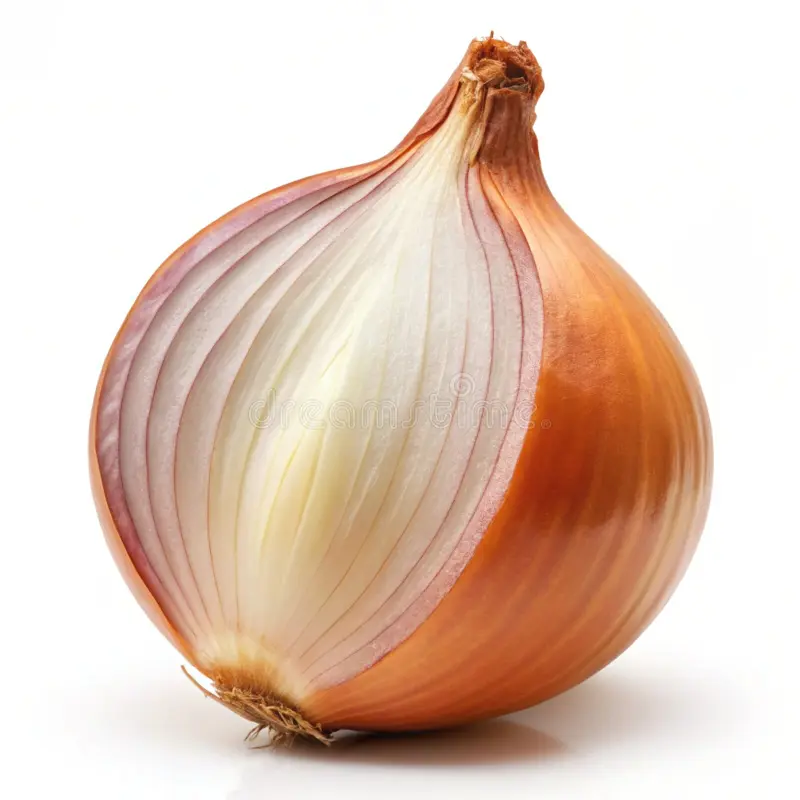onion: (88, 24, 740, 761)
